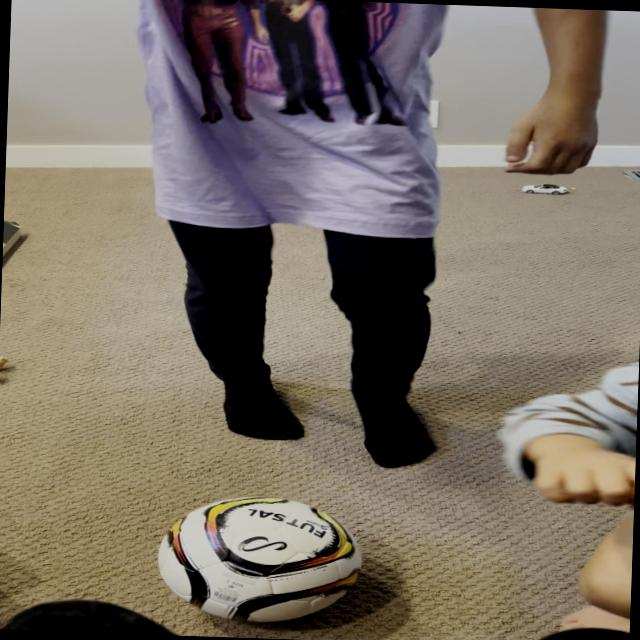Soccer Ball: (156, 493, 362, 624)
